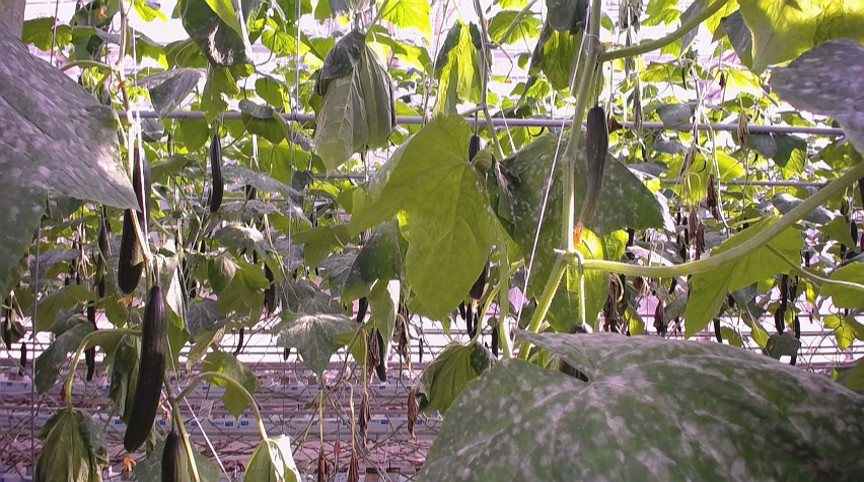cucumber: (126, 286, 167, 454), (119, 155, 147, 294), (582, 107, 612, 223), (209, 133, 226, 213)
